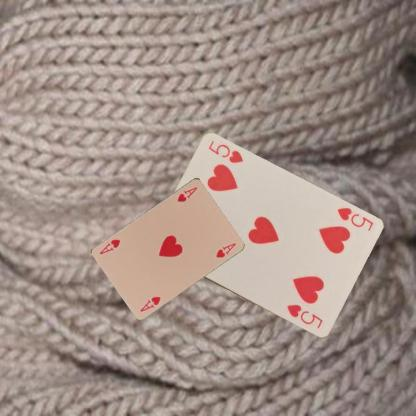5h: (334, 204, 374, 233)
Ah: (174, 184, 199, 204), (137, 294, 162, 313)
